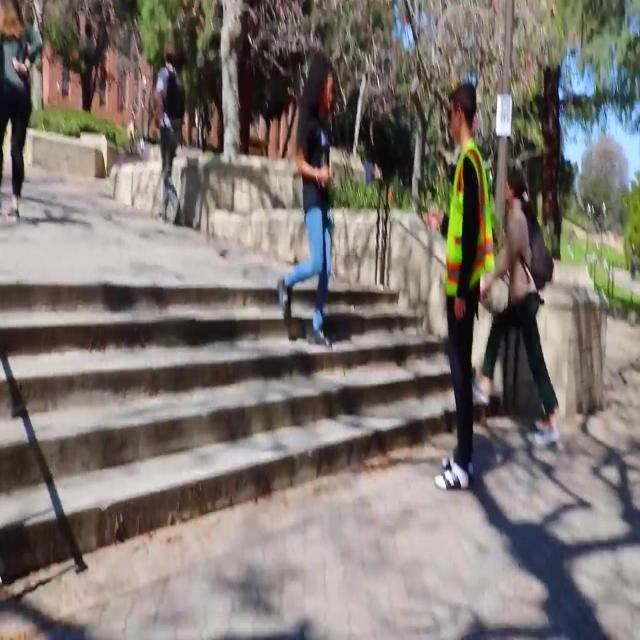Reflective-Jacket: (439, 137, 505, 318)
